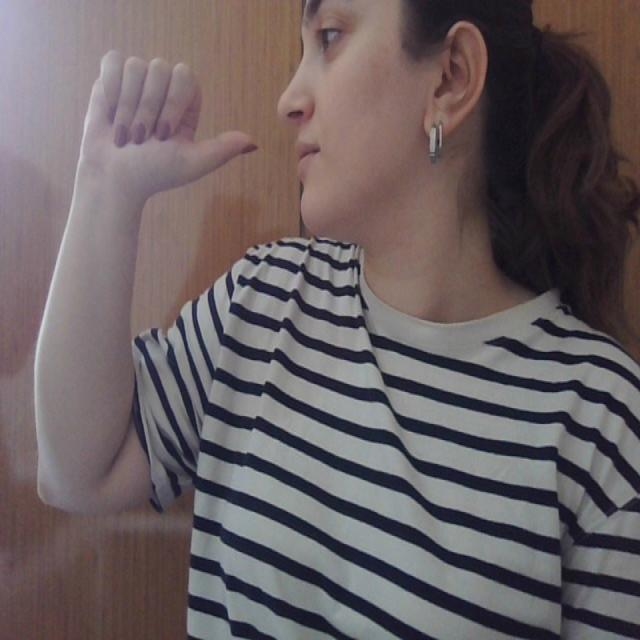icmek: (42, 35, 373, 210)
